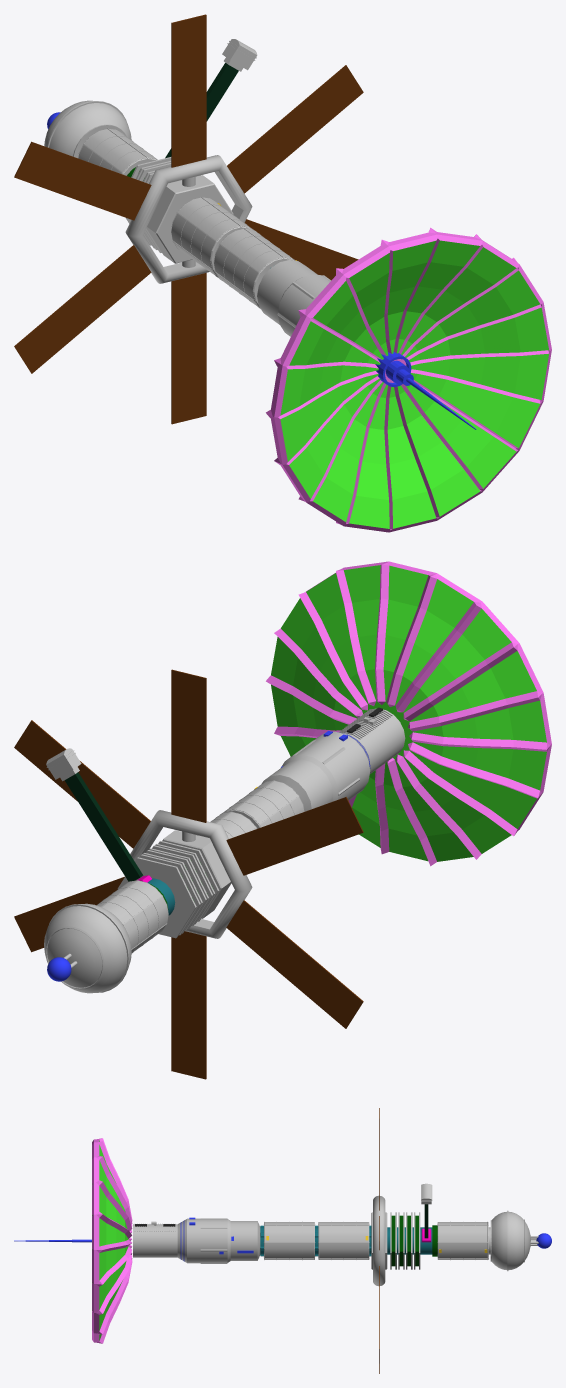
The model's file is Nomad Probe.fbx.
3 renders of one model, top to bottom at view 1: azimuth 30°, elevation 25°; view 2: azimuth 150°, elevation 25°; view 3: azimuth 270°, elevation 25°, orthographic. The views are drawn at different scales.
Parts seen in each view (by area): view 1: Dish, Body, Solar Fin 1, Solar Fin 5, Solar Fin 2, Solar Fin 4, Solar Fin 6, Solar Fin 3; view 2: Dish, Body, Solar Fin 1, Solar Fin 5, Solar Fin 6, Solar Fin 4, Solar Fin 2, Solar Fin 3; view 3: Body, Dish.
Part boxes in pixels (x1=…): Dish: x1=266, y1=227, x2=551, y2=532; Body: x1=44, y1=39, x2=331, y2=336; Solar Fin 1: x1=171, y1=14, x2=206, y2=167; Solar Fin 5: x1=14, y1=245, x2=151, y2=373; Solar Fin 2: x1=227, y1=65, x2=363, y2=193; Solar Fin 4: x1=171, y1=273, x2=206, y2=424; Solar Fin 6: x1=14, y1=141, x2=151, y2=220; Solar Fin 3: x1=245, y1=219, x2=358, y2=280; Dish: x1=266, y1=561, x2=551, y2=866; Body: x1=44, y1=707, x2=405, y2=993; Solar Fin 1: x1=171, y1=669, x2=206, y2=822; Solar Fin 5: x1=226, y1=900, x2=363, y2=1028; Solar Fin 6: x1=226, y1=797, x2=363, y2=875; Solar Fin 4: x1=171, y1=931, x2=206, y2=1079; Solar Fin 2: x1=14, y1=720, x2=150, y2=848; Solar Fin 3: x1=14, y1=876, x2=124, y2=952; Body: x1=133, y1=1183, x2=551, y2=1286; Dish: x1=14, y1=1138, x2=132, y2=1343.
Bounding box in the file's own units: 13.2 × 14.49 × 27.68.
